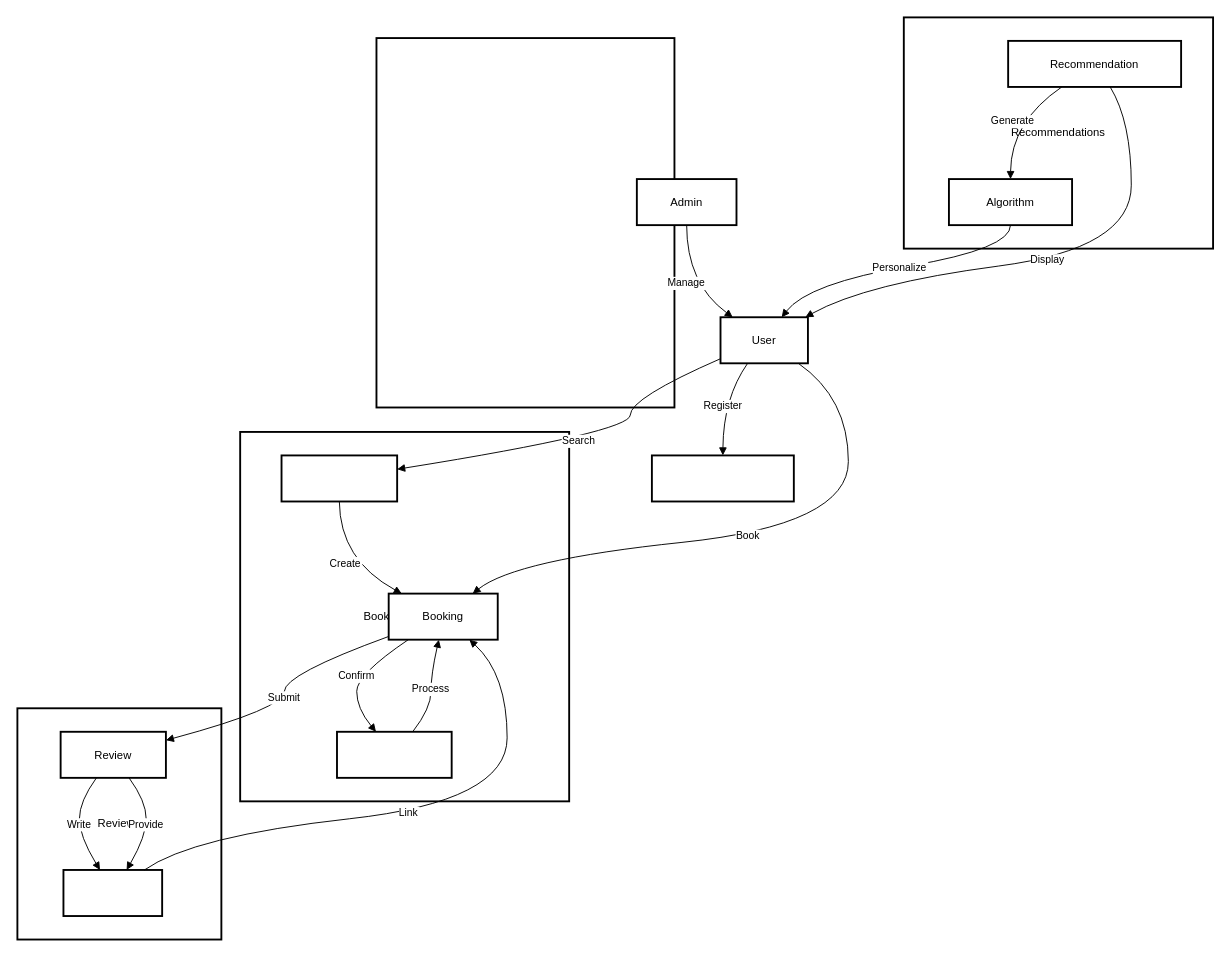
This 1230x956 diagram has some shape labels left out. Here are the shapes that lost their labels. From the top down, the box of each, then its label:
(375, 37, 675, 408): User Management
(280, 454, 398, 502): Itinerary
(650, 454, 794, 502): Organization
(336, 730, 452, 778): Payment
(62, 869, 163, 916): Rating
